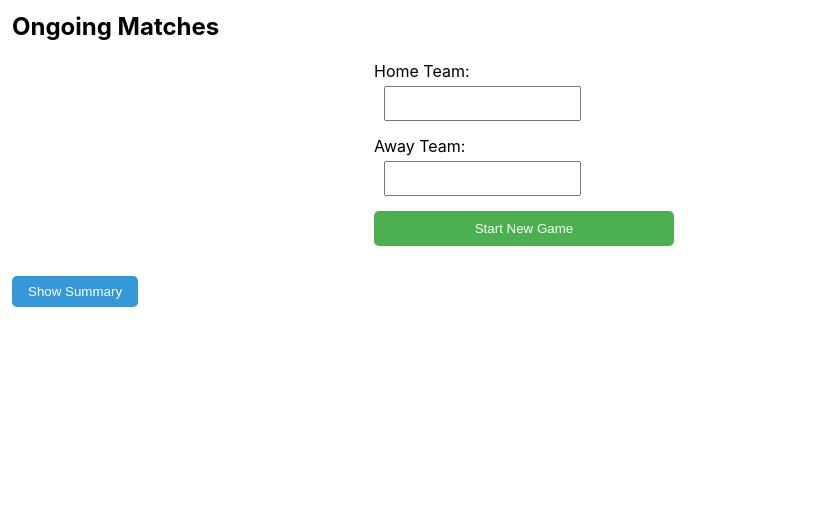
Test: finishes a game
Step 1. Type "Team A" into the field labelled "Home Team:" → point(482, 104), box x1=384 y1=86 x2=581 y2=121
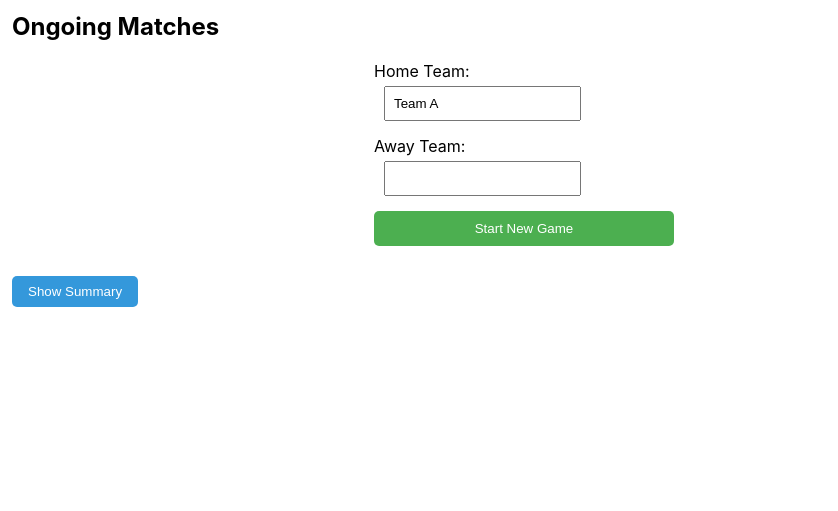
Step 2. Type "Team B" into the field labelled "Away Team:" → point(482, 178), box x1=384 y1=161 x2=581 y2=196
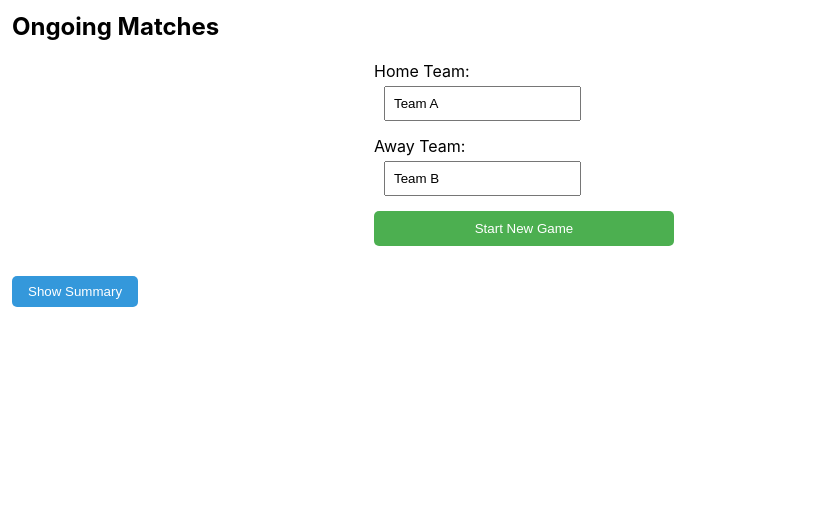
Step 3. Click the button "Start New Game" → point(524, 228), box x1=374 y1=211 x2=674 y2=246
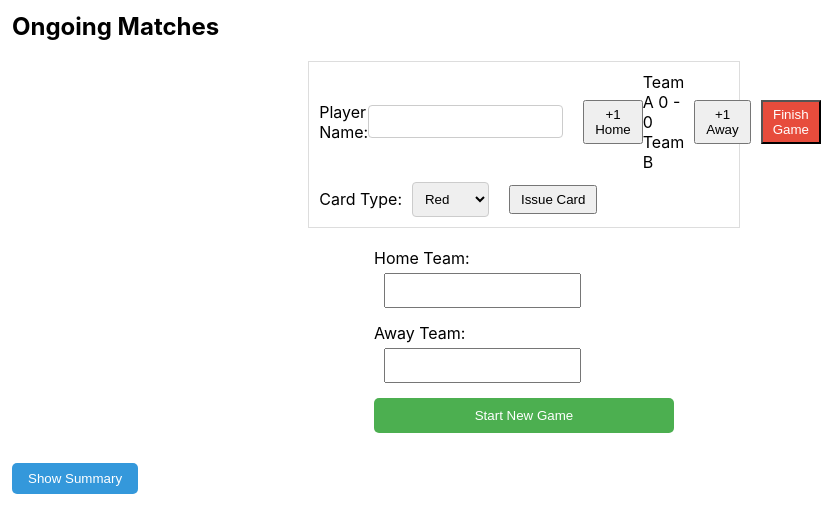
Step 4. Click the button "Finish Game" → point(791, 122), box x1=761 y1=100 x2=821 y2=144
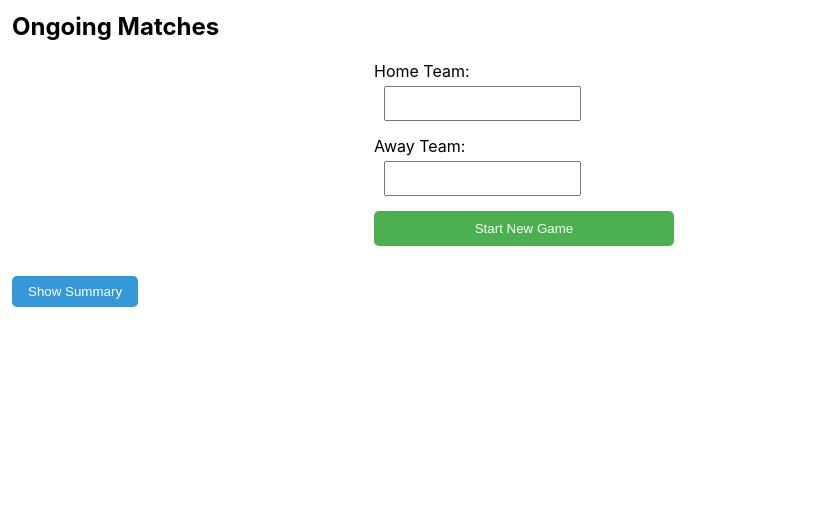
Expected: the text "Team A 0 - 0 Team B" is gone
